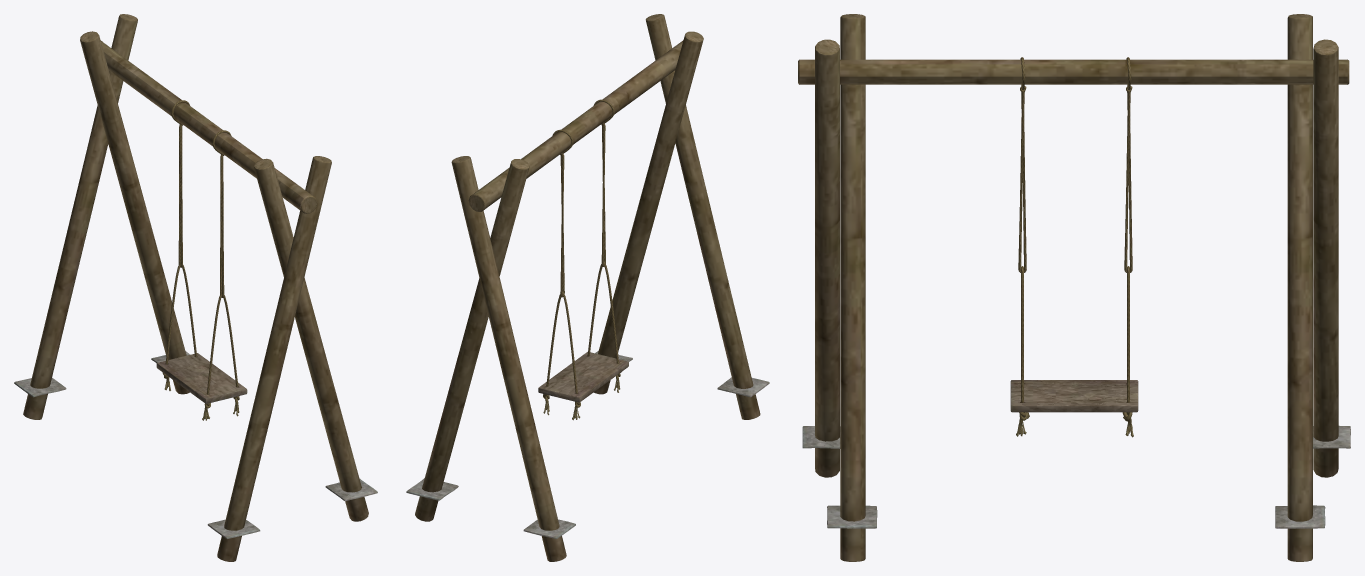
File: Swing_compressed.glb
3 renders of one model, left to right at view 1: azimuth 30°, elevation 25°; view 2: azimuth 150°, elevation 25°; view 3: azimuth 270°, elevation 25°, orthographic. The views are drawn at different scales.
Parts seen in each view (by area): view 1: Line056_Material_0_0; view 2: Line056_Material_0_0; view 3: Line056_Material_0_0.
Boxes of the visible parts, x1,y1,x2,y2 form: Line056_Material_0_0: (14, 14, 377, 561); Line056_Material_0_0: (406, 14, 769, 561); Line056_Material_0_0: (798, 14, 1350, 561).
Size of the model in its own units: 1.13 by 2.54 by 2.6.
Materials: 1 (1 with a texture image).
